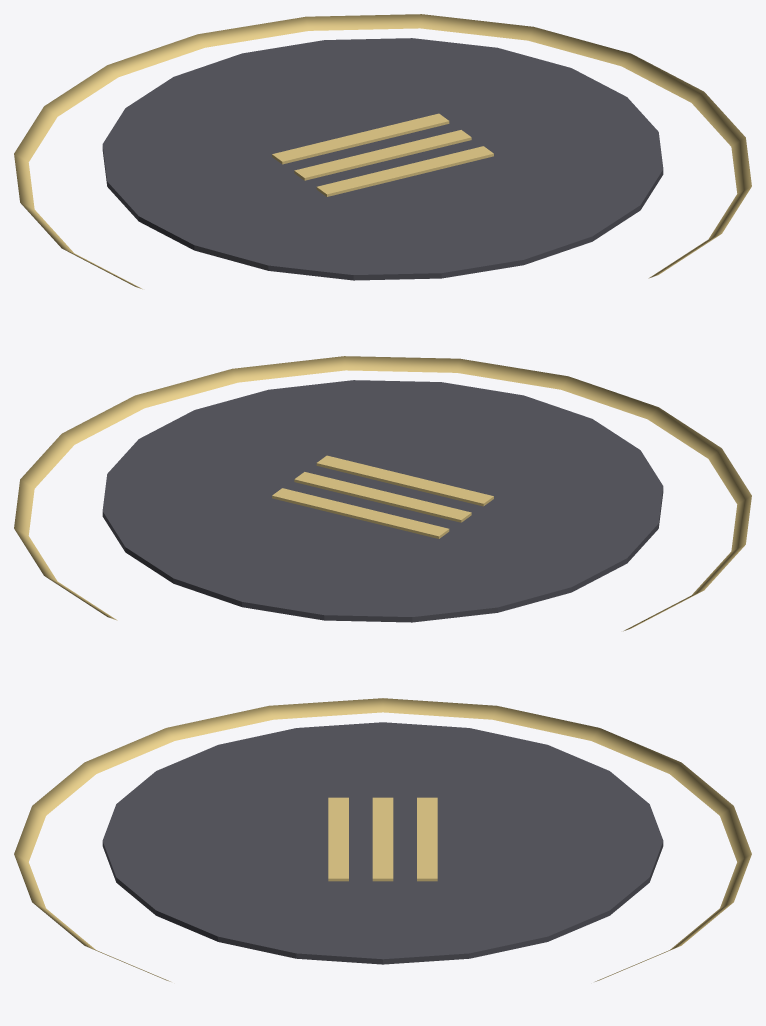
File: casino-floor-and-back-rooms-floor-plaque-222c771e__27040.glb
3 renders of one model, top to bottom at view 1: azimuth 30°, elevation 25°; view 2: azimuth 150°, elevation 25°; view 3: azimuth 270°, elevation 25°, orthographic.
Visible parts, largest first — view 1: floor-plaque; view 2: floor-plaque; view 3: floor-plaque.
Boxes of the visible parts, left/top/right/bottom form: floor-plaque: left=14, top=14, right=751, bottom=289; floor-plaque: left=14, top=356, right=751, bottom=631; floor-plaque: left=14, top=698, right=751, bottom=981.
Size of the model in its own units: 0.5 by 0.018 by 0.5.
